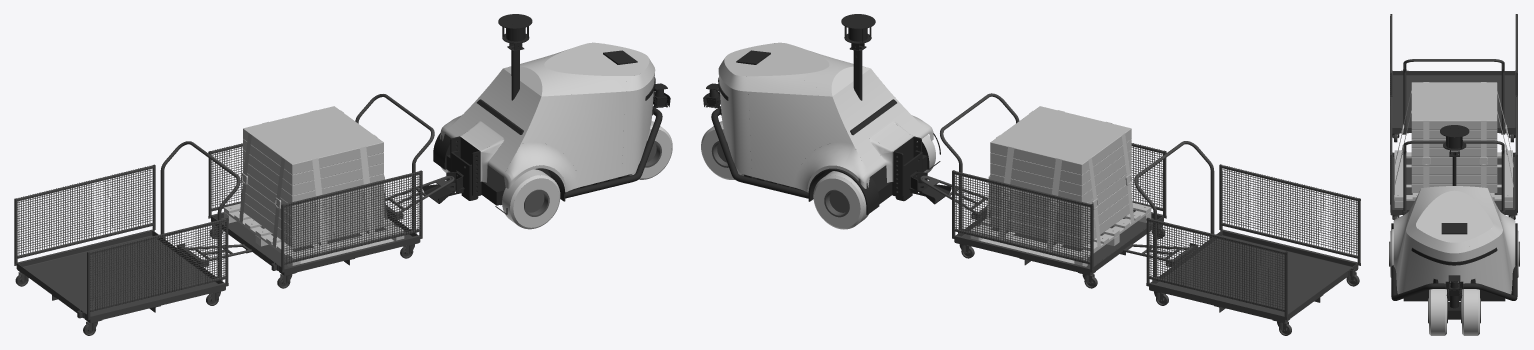
The model's file is amr10-moving.glb.
The picture shows the model from 3 angles, left to right: view 1: azimuth 30°, elevation 25°; view 2: azimuth 150°, elevation 25°; view 3: azimuth 270°, elevation 25°; orthographic projection. The views are drawn at different scales.
Parts seen in each view (by area): view 1: W; view 2: W; view 3: W.
Boxes of the visible parts, box(x1,y1,x2,y2) form: W: box(14, 14, 672, 335); W: box(701, 14, 1360, 335); W: box(1389, 14, 1519, 335).
Bounding box in the file's own units: 1.42 × 0.3884 × 0.3014.
1 material, 1 textured.
